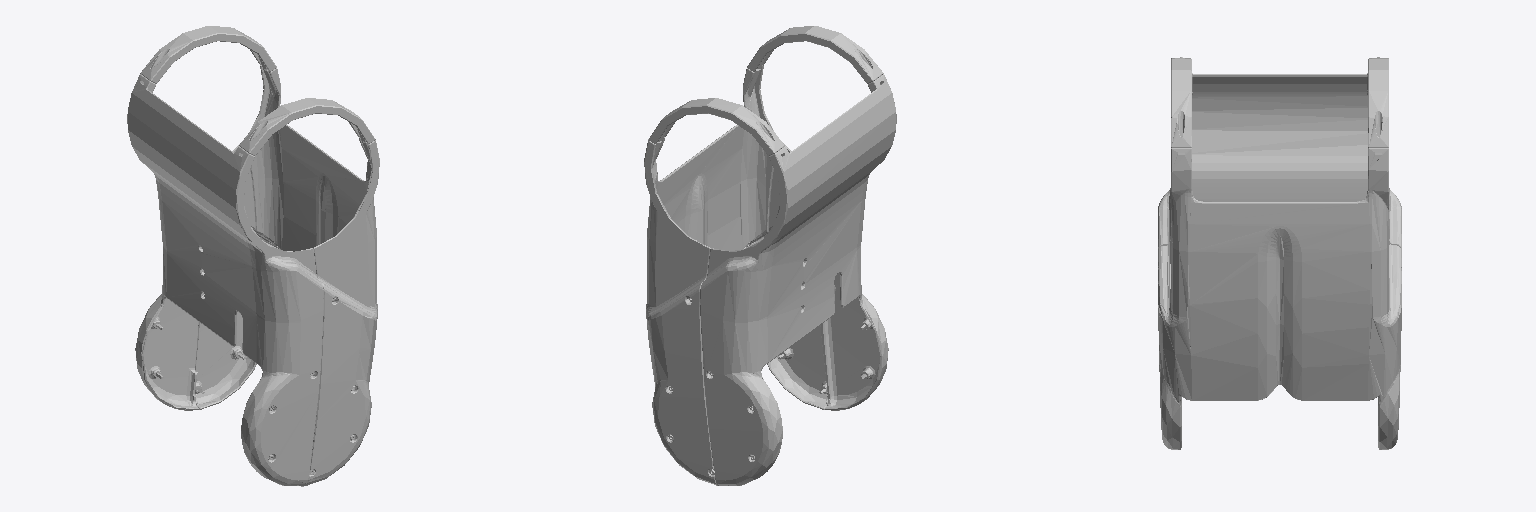
File: thigh.obj
3 views of the same model, side by side, from view 1: azimuth 30°, elevation 25°; view 2: azimuth 150°, elevation 25°; view 3: azimuth 270°, elevation 25° (orthographic).
Bounding box in the file's own units: 0.1848 × 0.45 × 0.264.